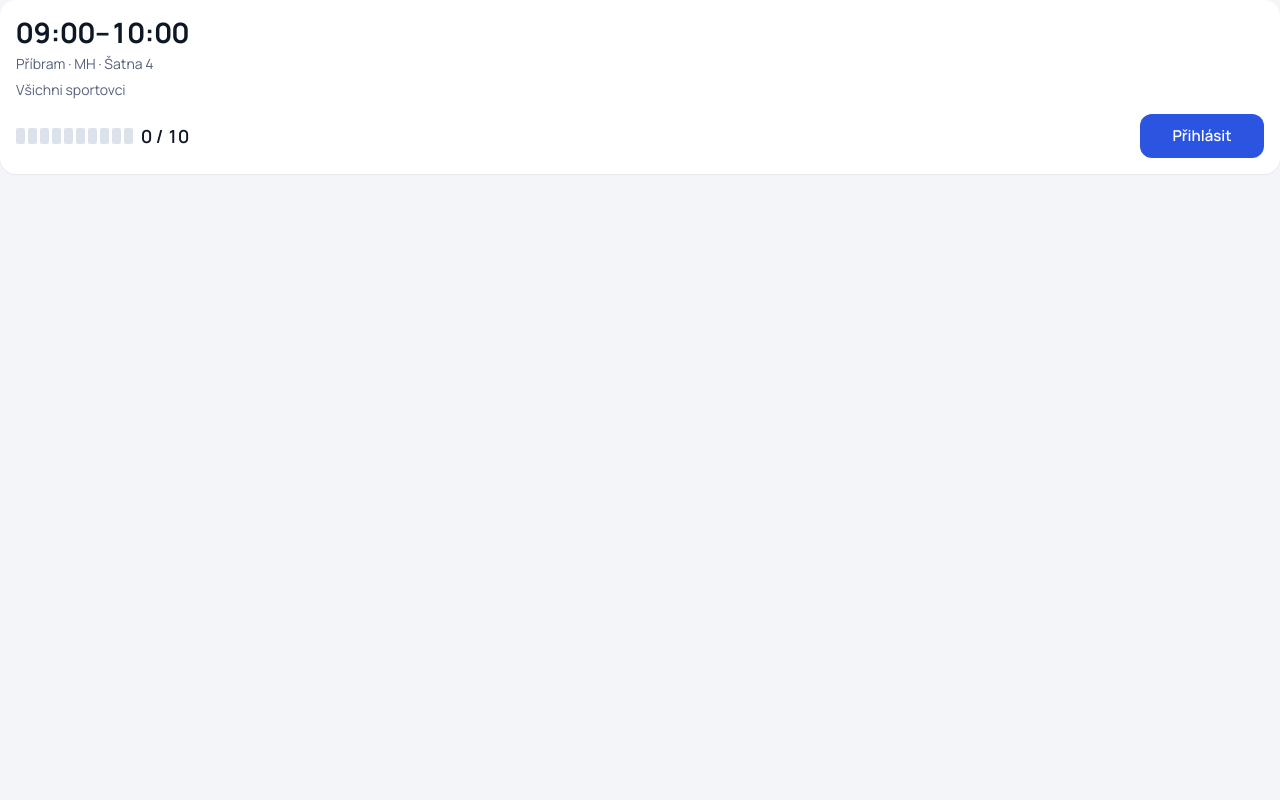
Scenario: the booking sheet (AC-268) › leaves the choice open when there is more than one
This screenshot has width=1280, height=800.
Click the button "Přihlásit" at (1202, 136), box [1140, 114, 1264, 158]
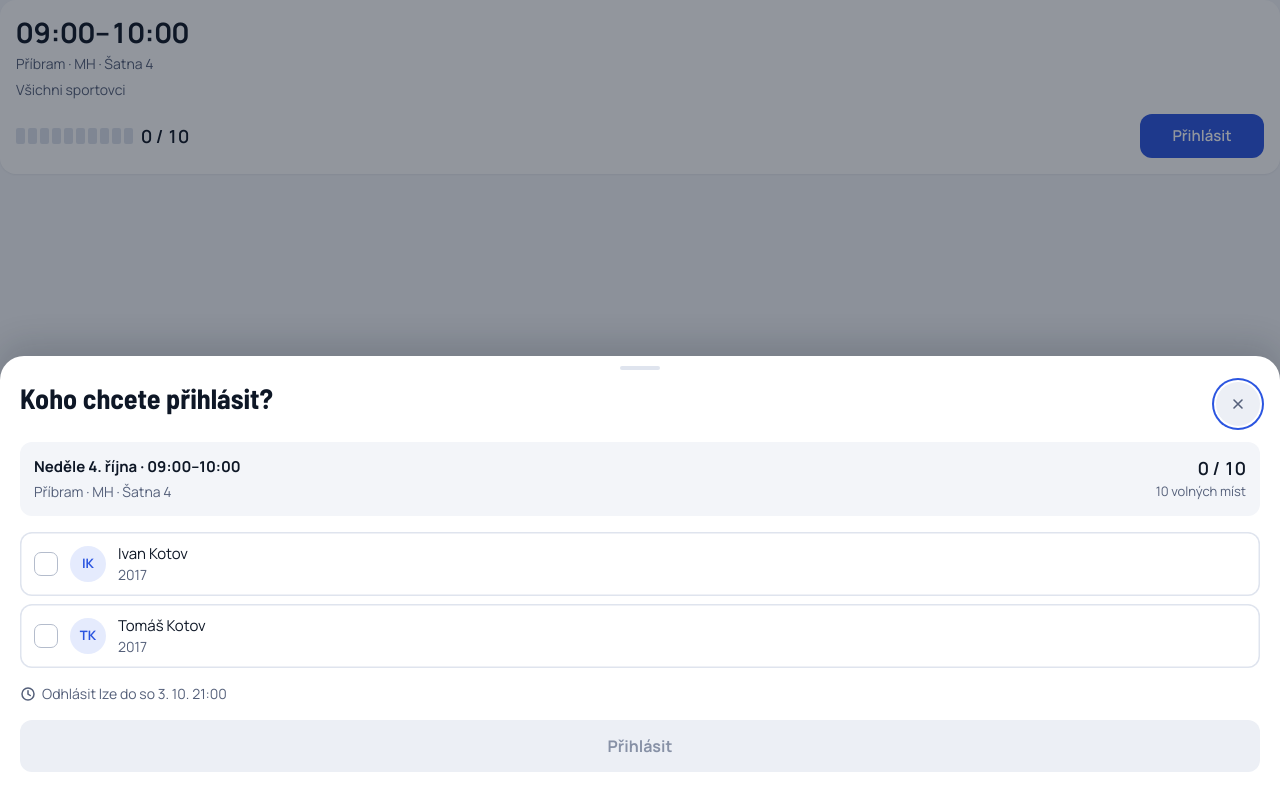
expect the checkbox labelled "IK Ivan Kotov 2017" is not checked: met, box [20, 532, 1260, 596]
expect the checkbox labelled "TK Tomáš Kotov 2017" is not checked: met, box [20, 604, 1260, 668]
expect the submit button is disabled: met, box [20, 720, 1260, 772]
